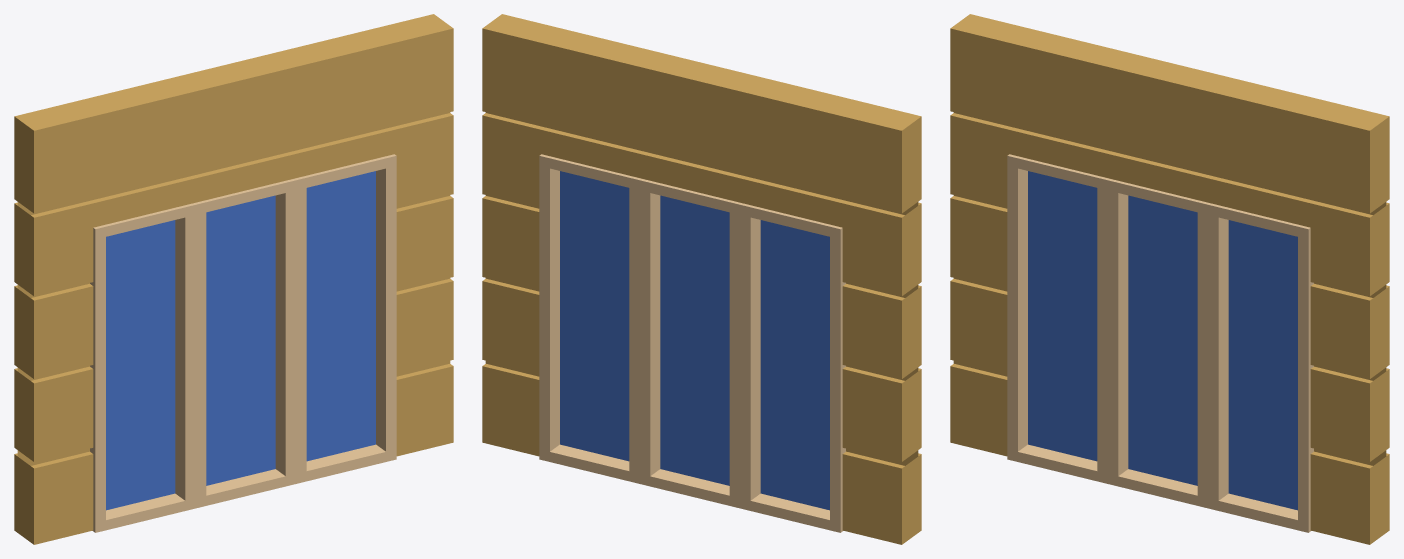
Rendered from Window03_house5.fbx.
The picture shows the model from 3 angles, left to right: view 1: azimuth 30°, elevation 25°; view 2: azimuth 150°, elevation 25°; view 3: azimuth 330°, elevation 25°; orthographic projection.
Visible parts, largest first — view 1: Window03_house05; view 2: Window03_house05; view 3: Window03_house05.
Part boxes in pixels (box(x1,y1,x2,y2)): Window03_house05: box(14, 14, 453, 544); Window03_house05: box(482, 14, 921, 544); Window03_house05: box(950, 14, 1389, 544).
Size of the model in its own units: 319 by 301 by 31.61.
